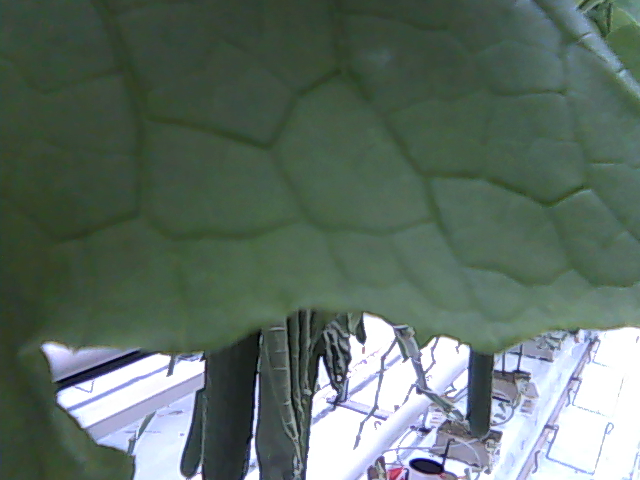concombre: (200, 325, 264, 480), (463, 353, 496, 439)
